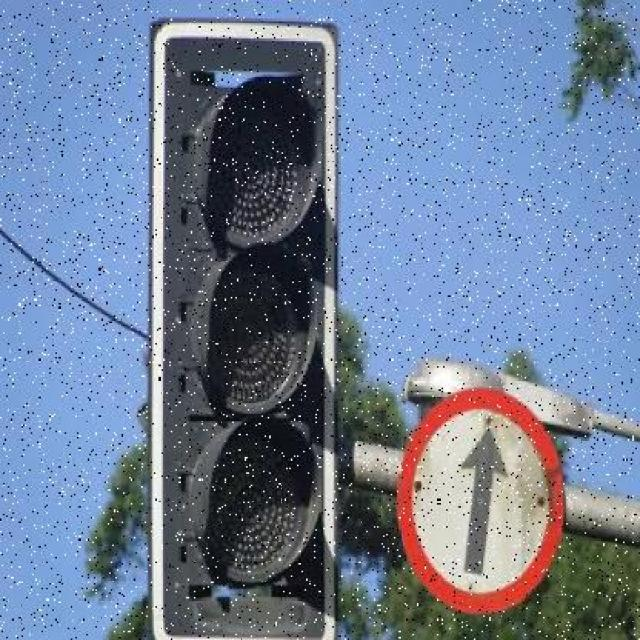traffic-light: (126, 6, 364, 640)
